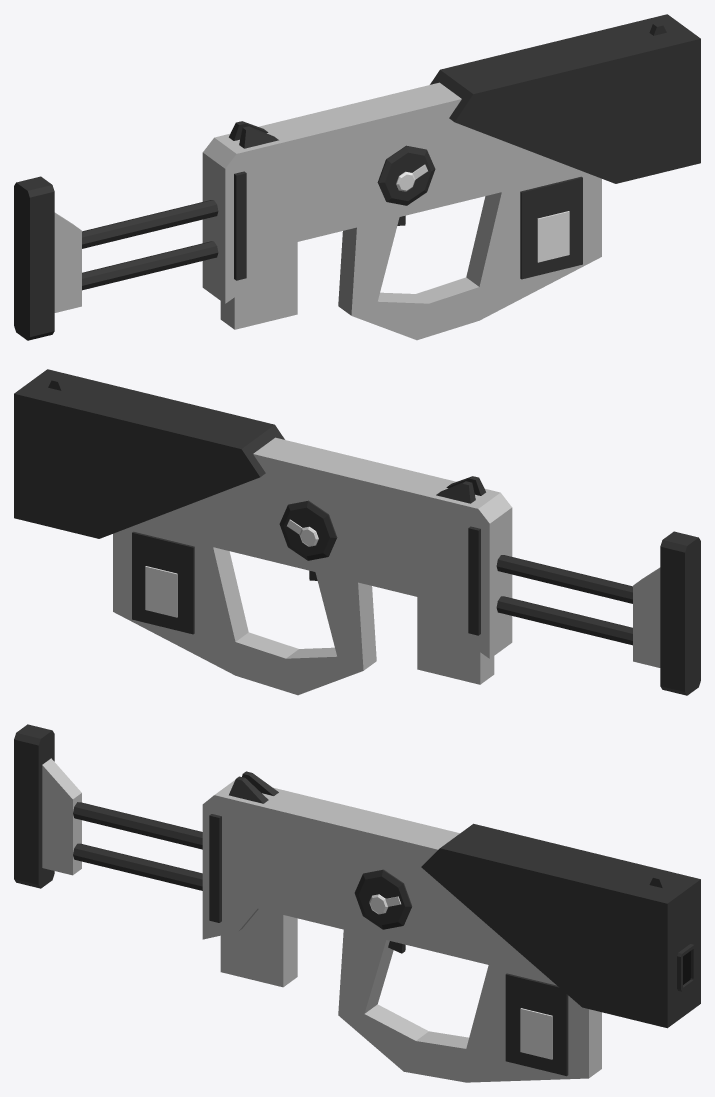
Rendered from Rifle_B_V4.FBX.
The picture shows the model from 3 angles, top to bottom: view 1: azimuth 30°, elevation 25°; view 2: azimuth 150°, elevation 25°; view 3: azimuth 330°, elevation 25°; orthographic projection.
Visible parts, largest first — view 1: Rifle_B_V4, Magazine; view 2: Rifle_B_V4, Magazine; view 3: Rifle_B_V4, Magazine.
Boxes of the visible parts, left/top/right/bottom form: Rifle_B_V4: left=14, top=14, right=700, bottom=340; Magazine: left=220, top=242, right=297, bottom=329; Rifle_B_V4: left=14, top=369, right=700, bottom=695; Magazine: left=417, top=597, right=494, bottom=684; Rifle_B_V4: left=14, top=724, right=700, bottom=1082; Magazine: left=220, top=909, right=297, bottom=987.
Size of the model in its own units: 361 by 130 by 31.4.
